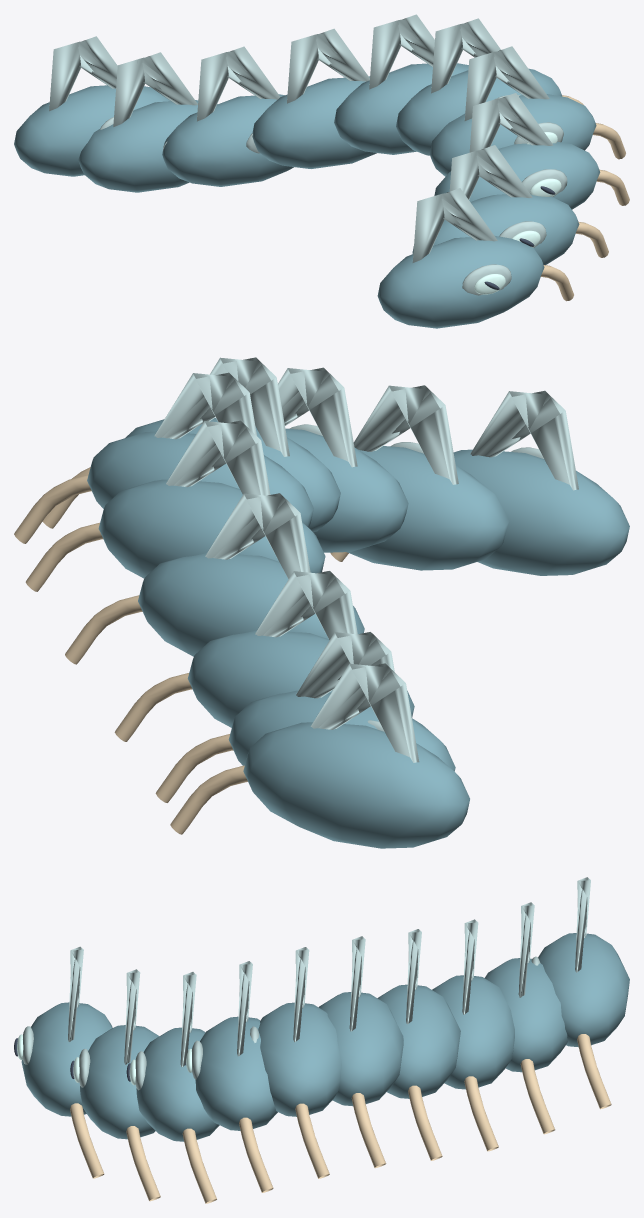
Rendered from bio_ribbon_colony_02_far.glb.
The picture shows the model from 3 angles, top to bottom: view 1: azimuth 30°, elevation 25°; view 2: azimuth 150°, elevation 25°; view 3: azimuth 270°, elevation 25°; orthographic projection. The views are drawn at different scales.
Visible parts, largest first — view 1: Overlapping folded ribbon, Overlapping folded ribbon.007, Overlapping folded ribbon.006, Overlapping folded ribbon.008, Overlapping folded ribbon.009, Overlapping folded ribbon.005, Overlapping folded ribbon.001, Overlapping folded ribbon.003, Overlapping folded ribbon.002, Overlapping folded ribbon.004, Raised pleated edge, Raised pleated edge.002 (+13 smaller); view 2: Overlapping folded ribbon.009, Overlapping folded ribbon, Overlapping folded ribbon.006, Overlapping folded ribbon.001, Overlapping folded ribbon.005, Overlapping folded ribbon.007, Overlapping folded ribbon.002, Overlapping folded ribbon.004, Raised pleated edge, Raised pleated edge.001, Raised pleated edge.009, Raised pleated edge.006 (+14 smaller); view 3: Overlapping folded ribbon.004, Overlapping folded ribbon.009, Overlapping folded ribbon.003, Overlapping folded ribbon.005, Overlapping folded ribbon.006, Overlapping folded ribbon.007, Overlapping folded ribbon, Overlapping folded ribbon.002, Overlapping folded ribbon.001, Overlapping folded ribbon.008, Raised pleated edge.001, Raised pleated edge (+18 smaller).
Boxes of the visible parts, <box> form: Overlapping folded ribbon: <box>377,235,544,328</box>; Overlapping folded ribbon.007: <box>162,94,293,186</box>; Overlapping folded ribbon.006: <box>252,76,376,168</box>; Overlapping folded ribbon.008: <box>78,100,217,192</box>; Overlapping folded ribbon.009: <box>14,85,170,176</box>; Overlapping folded ribbon.005: <box>334,63,468,154</box>; Overlapping folded ribbon.001: <box>412,194,579,264</box>; Overlapping folded ribbon.003: <box>429,94,596,176</box>; Overlapping folded ribbon.002: <box>434,141,600,209</box>; Overlapping folded ribbon.004: <box>396,68,562,155</box>; Raised pleated edge: <box>412,188,511,295</box>; Raised pleated edge.002: <box>469,93,567,196</box>; Overlapping folded ribbon.009: <box>243,722,469,848</box>; Overlapping folded ribbon: <box>453,449,629,575</box>; Overlapping folded ribbon.006: <box>138,553,364,656</box>; Overlapping folded ribbon.001: <box>347,446,509,570</box>; Overlapping folded ribbon.005: <box>98,479,325,578</box>; Overlapping folded ribbon.007: <box>187,630,414,727</box>; Overlapping folded ribbon.002: <box>285,428,408,552</box>; Overlapping folded ribbon.004: <box>87,431,313,527</box>; Raised pleated edge: <box>470,390,578,490</box>; Raised pleated edge.001: <box>353,385,458,484</box>; Raised pleated edge.009: <box>310,663,419,762</box>; Raised pleated edge.006: <box>205,493,310,578</box>; Overlapping folded ribbon.004: <box>258,1002,341,1116</box>; Overlapping folded ribbon.009: <box>538,933,629,1047</box>; Overlapping folded ribbon.003: <box>195,1016,277,1130</box>; Overlapping folded ribbon.005: <box>318,992,403,1106</box>; Overlapping folded ribbon.006: <box>377,984,460,1098</box>; Overlapping folded ribbon.007: <box>432,975,514,1089</box>; Overlapping folded ribbon: <box>21,1002,112,1116</box>; Overlapping folded ribbon.002: <box>136,1027,219,1141</box>; Overlapping folded ribbon.001: <box>80,1025,159,1139</box>; Overlapping folded ribbon.008: <box>485,958,567,1072</box>; Raised pleated edge.001: <box>79,969,140,1087</box>; Raised pleated edge: <box>22,946,83,1064</box>.
Size of the model in its own units: 2.76 by 1.21 by 3.04.
